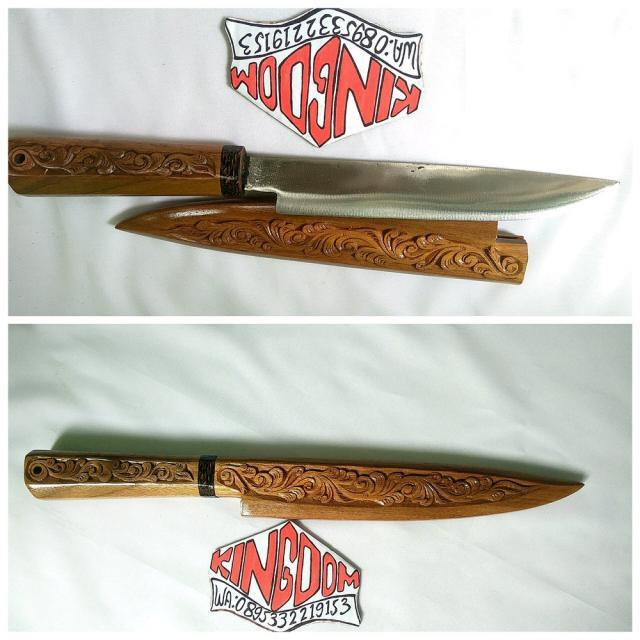Pisau: (7, 131, 614, 216)
